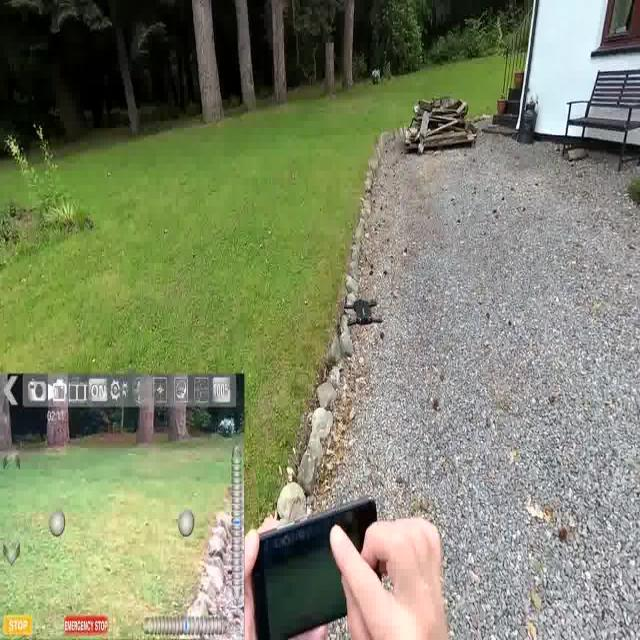drone: (344, 296, 384, 328)
